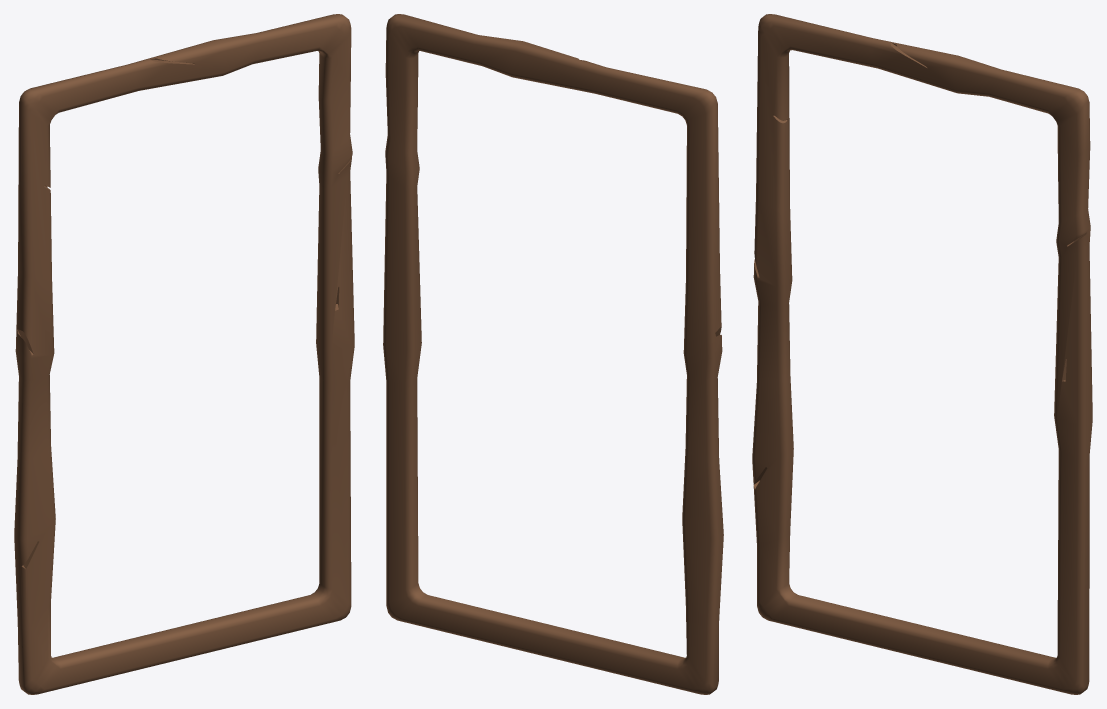
The model's file is FruitSensei_DoorFrame.fbx.
3 renders of one model, left to right at view 1: azimuth 30°, elevation 25°; view 2: azimuth 150°, elevation 25°; view 3: azimuth 330°, elevation 25°, orthographic.
Parts seen in each view (by area): view 1: Cube.005; view 2: Cube.005; view 3: Cube.005.
Part boxes in pixels (x1=…): Cube.005: x1=14, y1=14, x2=354, y2=694; Cube.005: x1=383, y1=14, x2=723, y2=694; Cube.005: x1=752, y1=14, x2=1092, y2=694.
Bounding box in the file's own units: 242 × 419 × 15.57.
